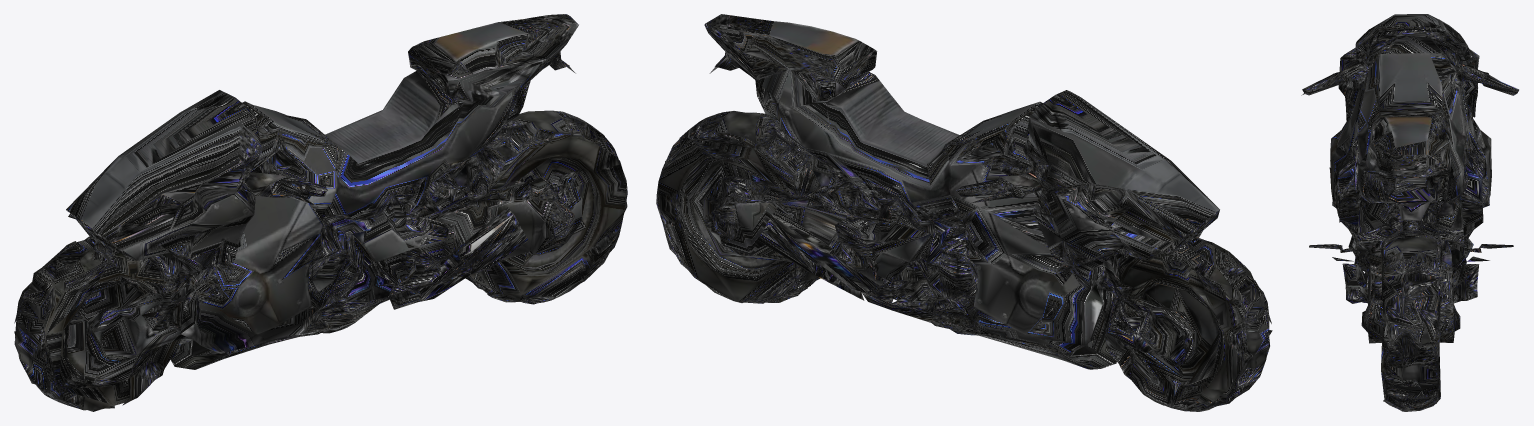
Rendered from moto.glb.
3 renders of one model, left to right at view 1: azimuth 30°, elevation 25°; view 2: azimuth 150°, elevation 25°; view 3: azimuth 270°, elevation 25°, orthographic. The views are drawn at different scales.
Parts seen in each view (by area): view 1: Object_4; view 2: Object_4; view 3: Object_4.
Part boxes in pixels (x1=…): Object_4: x1=14, y1=14, x2=627, y2=411; Object_4: x1=656, y1=14, x2=1272, y2=411; Object_4: x1=1301, y1=14, x2=1519, y2=411.
Bounding box in the file's own units: 1.99 × 0.8801 × 0.6919.
1 material, 1 textured.
